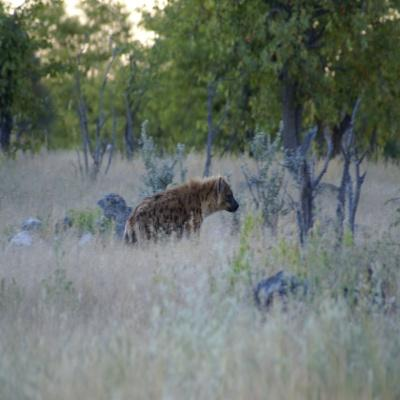hyenas: (113, 164, 258, 251)
